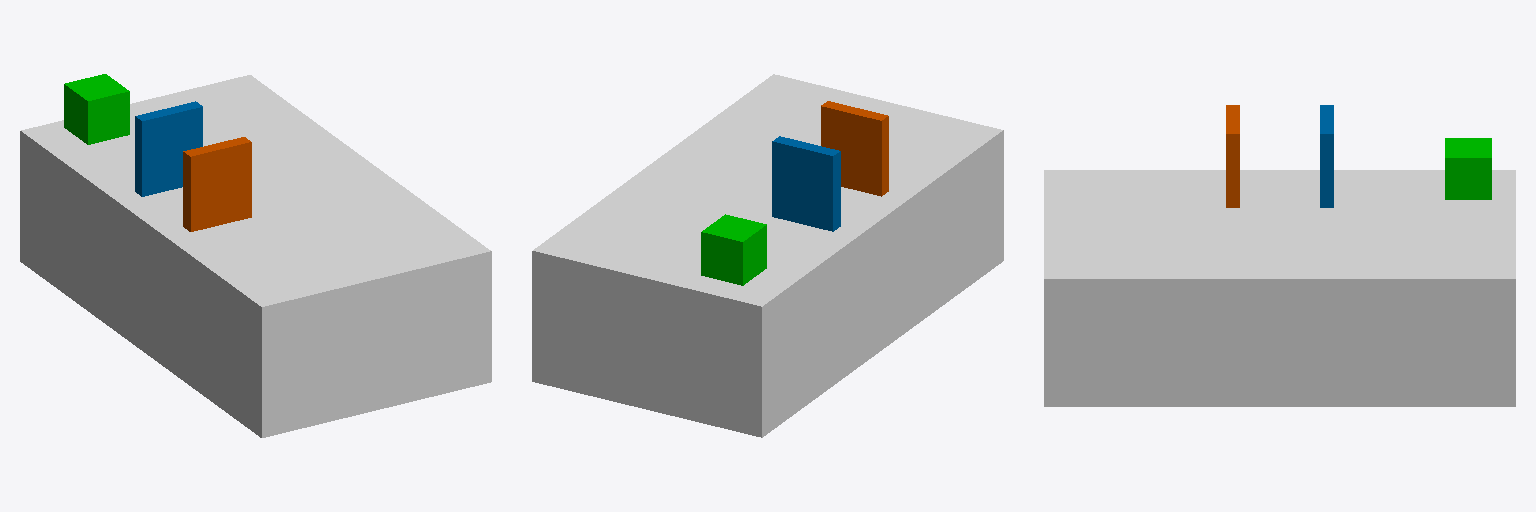
robot.urdf — cube_scene:
<?xml version="1.0"?>
  <robot name="cube_scene">
    <link name="base_link"/>

    <link name="table">
      <visual>
        <geometry>
          <box size="0.55 1.0 0.3" />
        </geometry>
        <origin rpy="0 0 0" xyz="0 0 0" />

<material name = "">
          <color rgba="0.9 0.9 0.9 1.0"/>
</material>

      </visual>

      <collision>
        <geometry>
          <box size="0.55 1.0 0.3" />
        </geometry>
        <origin rpy="0 0 0" xyz="0 0 0" />       
       </collision>
    </link>

  

    <link name="cone2">
      <visual>
        <geometry>
          <mesh filename="file://[local-path]/Desktop/blenderFLEX/cone.dae" scale="0.052 0.052 0.052" />
        </geometry>
        <origin rpy="0 0 0" xyz="0 0 0" />
      <material name = "">
          <color rgba="1.0 0.5 0.0 1.0"/>
      </material>
      
      </visual>
      
      <collision>     
        <geometry>
          <mesh filename="file://[local-path]/Desktop/blenderFLEX/cone.dae" scale="0.052 0.052 0.052"/>
        </geometry>
        <origin rpy="0 0 0" xyz="0 0 0" />  
       </collision>

    </link>

    <link name="cube1">
      <visual>
        <geometry>
          <box size="0.1 0.1 0.1"/>
        </geometry>
        <origin rpy="0 0 0" xyz="0 0 0" />
      <material name = "">
          <color rgba="0.0 0.8 0.0 1.0"/>
      </material>
      </visual>
      <collision>
        <geometry>
          <box size="0.1 0.1 0.1"/>
        </geometry>
        <origin rpy="0 0 0" xyz="0 0 0" />       
       </collision>
    </link>

     <link name="door1">
      <visual>
        <geometry>
          <box size="0.03 0.146 0.173"/>
        </geometry>
        <origin rpy="0 0 0" xyz="0.0 0 0" />
      </visual>
      <collision>
        <geometry>  
          <box size="0.03 0.146 0.173"/>
        </geometry>
        <origin rpy="0 0 0" xyz="0 0 0" />       
       </collision>
    </link>


     <link name="door2">
      <visual>
      <origin rpy="0 0 0" xyz="0 0 0" />
        <geometry>
          <box size="0.03 0.146 0.173"/>
        </geometry>
      </visual>
      <collision>       
        <geometry>  
          <box size="0.03 0.146 0.173"/>
        </geometry>
        <origin rpy="0 0 0" xyz="0 0 0" />
       </collision>
    </link>


<joint name="table_j" type="fixed">
    <origin rpy="0 0 0" xyz="0.75 -0.6 0.63" />
    <parent link="base_link" />
    <child link="table" />
    <axis xyz="0 1 0" />
  </joint>



<joint name="cube_joint" type="prismatic">
    <origin rpy="0 0 0" xyz="0.60 -0.2 0.84" />
    <parent link="base_link" />
    <child link="cube1" />
    <axis xyz="0 -1 0" />

  <limit lower="0" upper="1.0" effort="0.05" velocity="1.57"/>
  </joint>


    <joint name="door_joint1" type="prismatic">
        <origin rpy="0 0 1.57" xyz="0.6 -0.5 0.87"/>
        <parent link="base_link"/>
        <child link="door1"/>
        <axis xyz="0.0 -1.0 0.0"/>
        <limit lower="0" upper="0.4" effort="0.05" velocity="1.57"/>
    </joint>

    <joint name="door_joint2" type="prismatic">
        <origin rpy="0 0 1.57" xyz="0.6 -0.7 0.87"/>
        <parent link="base_link"/>
        <child link="door2"/>
        <axis xyz="0.0 -1.0 0.0"/>
        <limit lower="0" upper="0.4" effort="0.05" velocity="1.57"/>
    </joint>



 <joint name="cone_joint2" type="fixed">
    <origin rpy="0 0 0" xyz="0.75 -0.96 0.775" />
    <parent link="base_link" />
    <child link="cone2" />
    <axis xyz="0 1 0" />
  </joint>





</robot>

--- Facts derived from the render (not from the file) ---
Views: 3 orthographic renders of the robot side by side, from view 1: azimuth 30°, elevation 25°; view 2: azimuth 150°, elevation 25°; view 3: azimuth 270°, elevation 25°.
Robot: cube_scene — 6 links, 5 joints (3 prismatic, 2 fixed); root link base_link; default pose: all joints at 0.
Visible links, largest first — view 1: table, door2, door1, cube1; view 2: table, door1, door2, cube1; view 3: table, cube1, door1, door2.
Boxes of the visible links, box(x1,y1,x2,y2) form: table: box(20, 75, 491, 437); door2: box(183, 137, 251, 231); door1: box(135, 101, 202, 196); cube1: box(64, 74, 129, 144); table: box(532, 74, 1003, 437); door1: box(772, 136, 840, 231); door2: box(821, 101, 888, 196); cube1: box(701, 214, 766, 285); table: box(1044, 170, 1515, 406); cube1: box(1445, 138, 1491, 199); door1: box(1320, 105, 1333, 207); door2: box(1226, 105, 1239, 207).
Bounding box of the posed robot: 0.55 × 1 × 0.4765 m (x, y, z).
Geometry: only primitive shapes (box / cylinder / sphere) drawn; not drawn: 1 mesh visual (reference in a form the renderer does not follow).